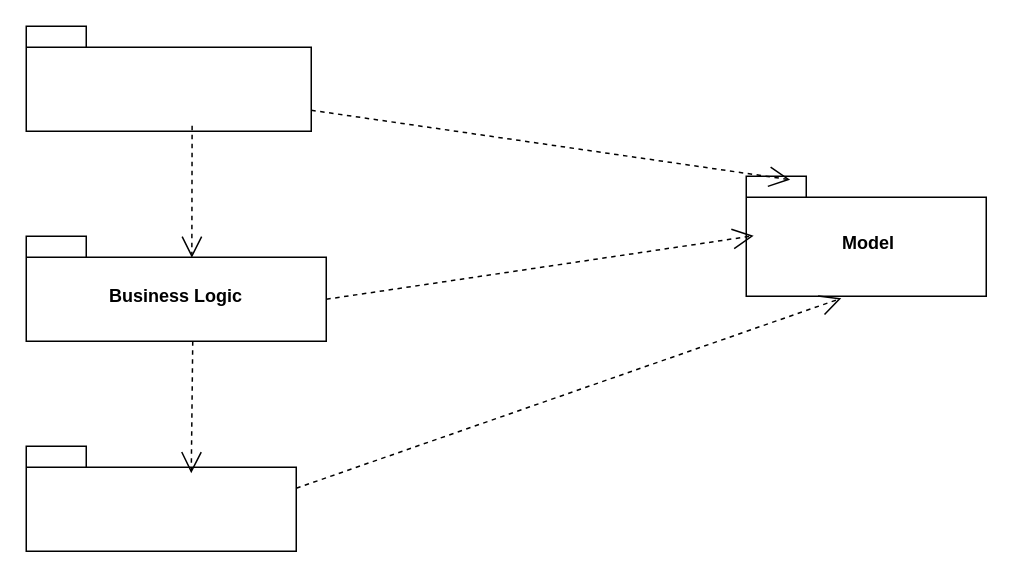
Image size: 1013x578. Some labels were removed from this diagram. Here are the shapes that lost their labels. From the top down, the box of each, then its label:
(25, 25, 311, 131): GUI
(25, 445, 296, 551): Utils
